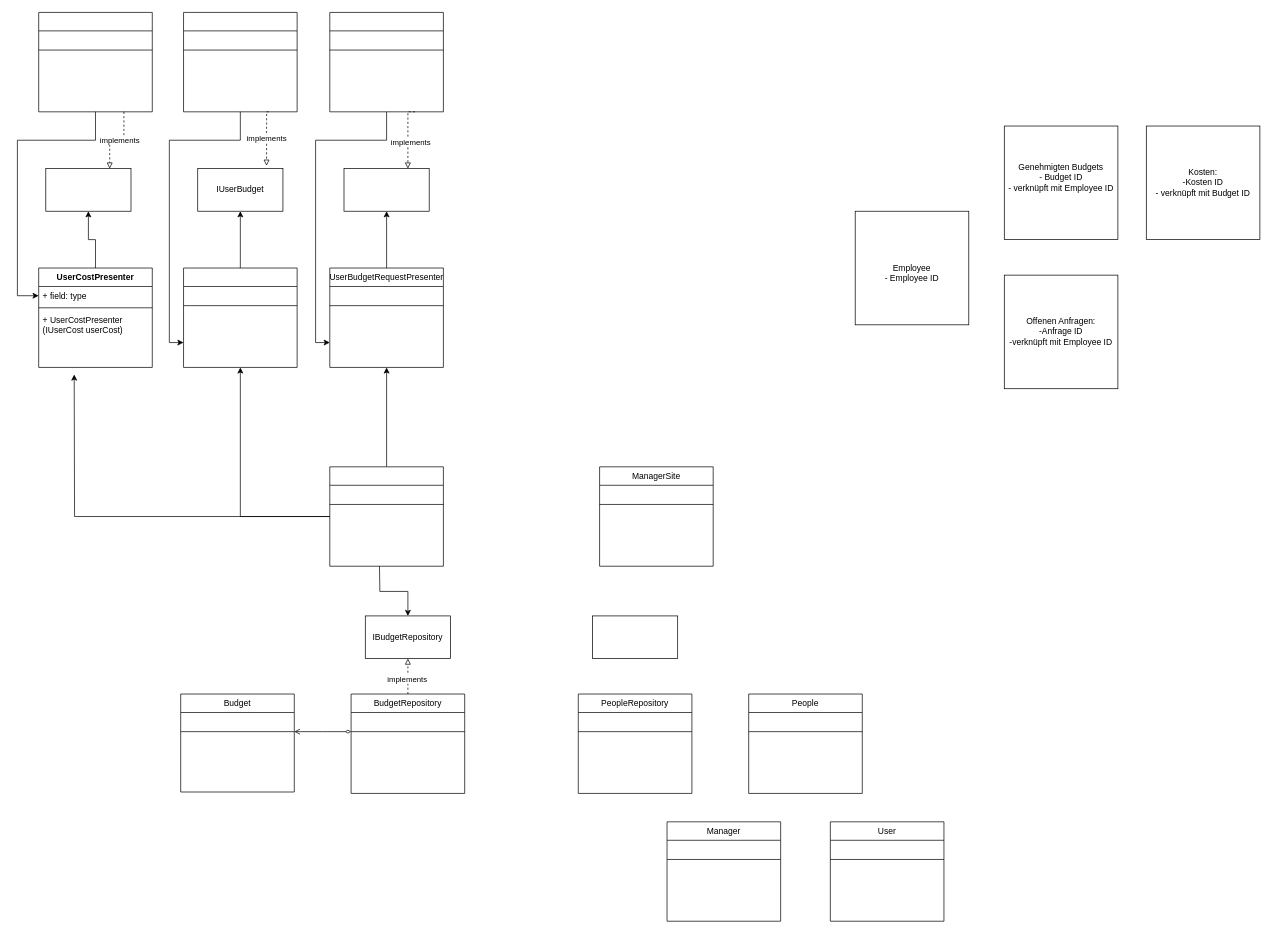
The diagram is 1272 pixels wide and 934 high, and some of its shapes have lost their labels. Each missing label, with the centre of its shape:
BudgetRequest: point 386,62
IRepository: point 635,637
IUserBudgetRequest: point 386,189
IUserCost: point 88,189
UserBudget: point 240,62
UserBudgetPresenter: point 240,317
UserCost: point 95,62
UserSite: point 386,516
